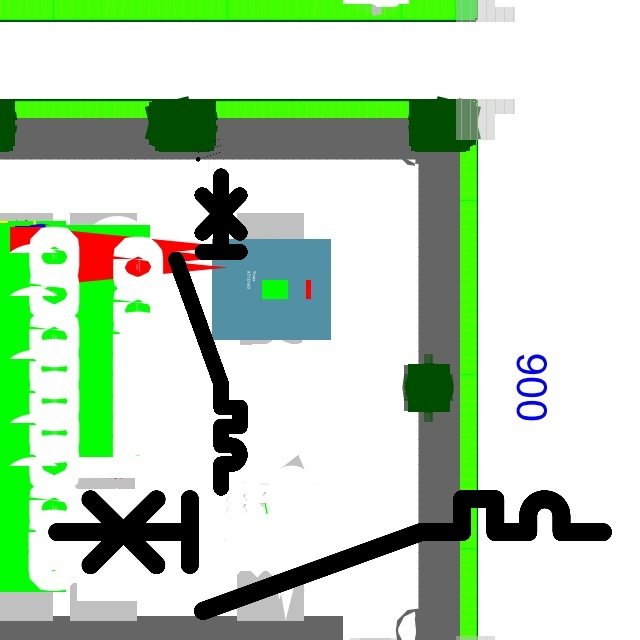interruptor_termomagnetico: (43, 485, 617, 625), (168, 168, 248, 496)
